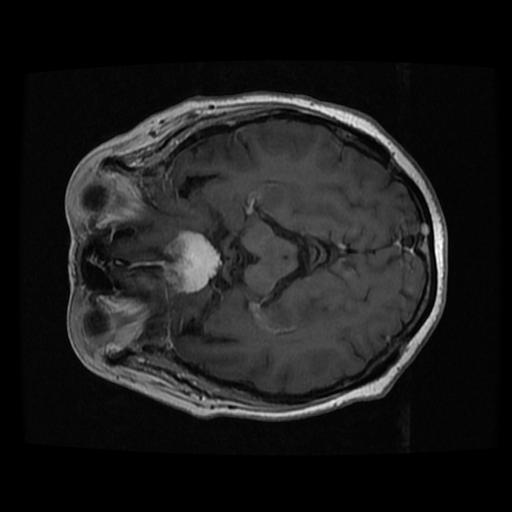meningioma: (161, 231, 222, 294)
